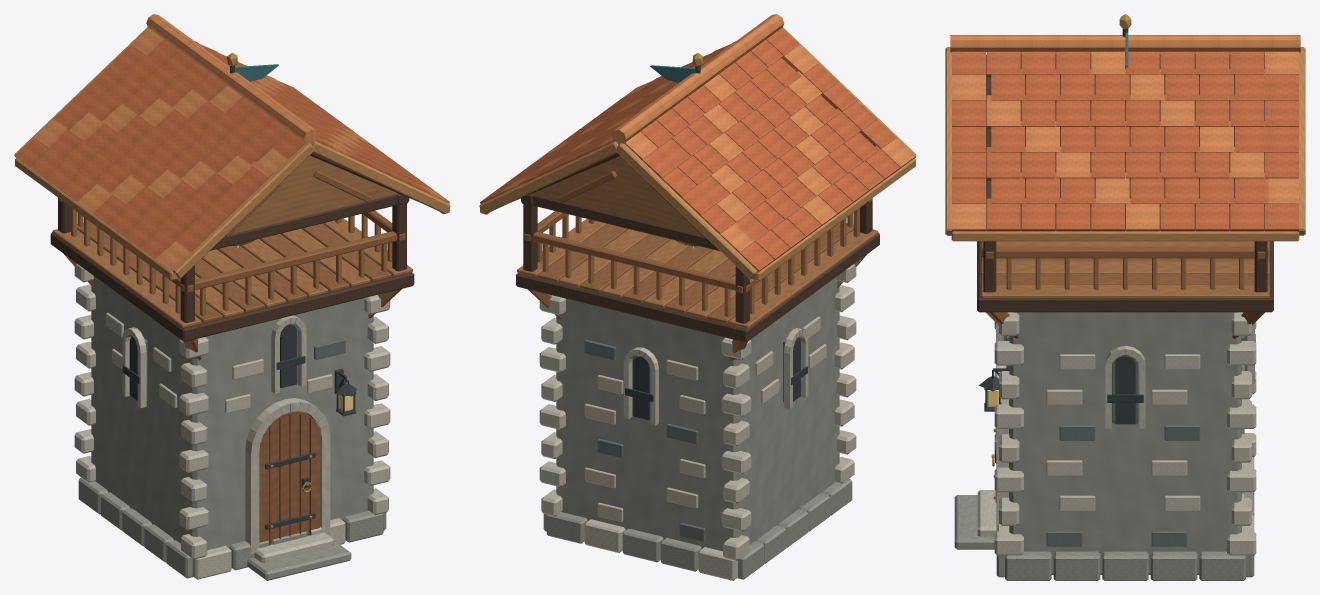
The model's file is building_watchtower.glb.
The picture shows the model from 3 angles, left to right: view 1: azimuth 30°, elevation 25°; view 2: azimuth 150°, elevation 25°; view 3: azimuth 270°, elevation 25°; orthographic projection. The views are drawn at different scales.
Visible parts, largest first — view 1: building_watchtower; view 2: building_watchtower; view 3: building_watchtower.
Boxes of the visible parts, x1,y1,x2,y2 form: building_watchtower: (14,14,450,580); building_watchtower: (479,14,916,580); building_watchtower: (945,14,1305,580).
Bounding box in the file's own units: 4.41 × 6.97 × 4.43.
Materials: 1 (1 with a texture image).
